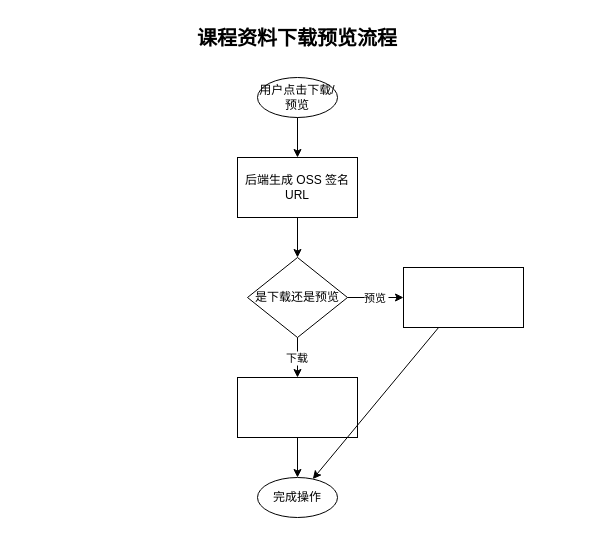
Some shapes in this 594 by 535 pixel diagram are drawn without their labels. Each missing label, with the centre of its shape:
浏览器在线开启(预览): [463,297]
重定向至文件流(下载): [297,407]
